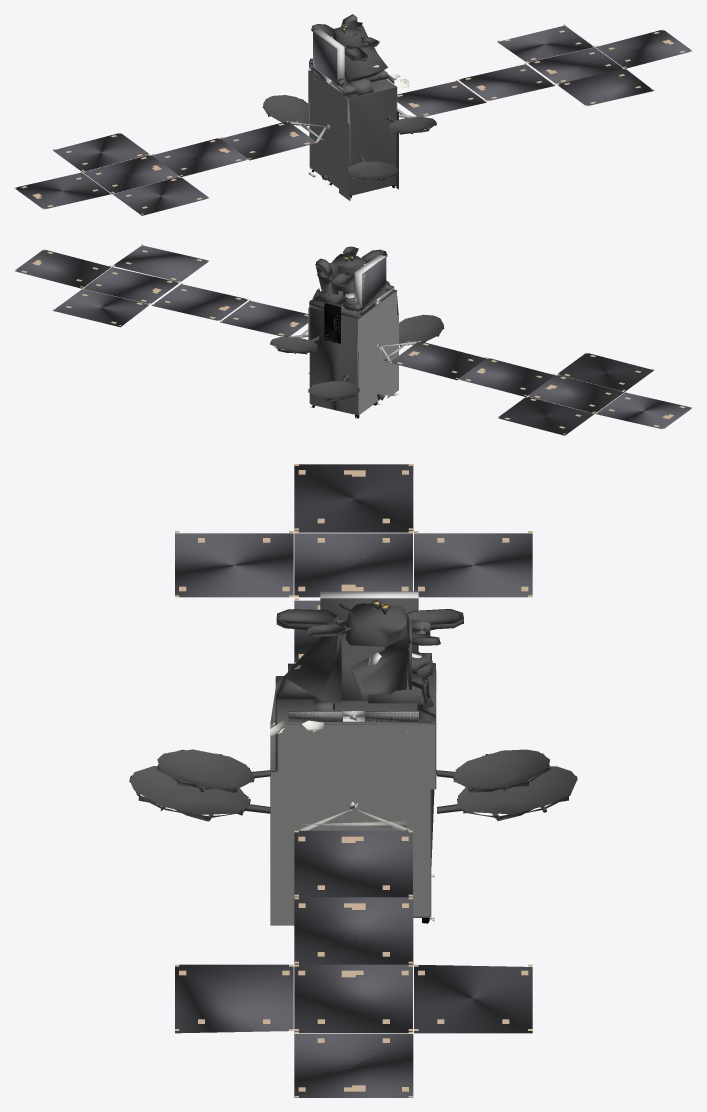
File: ssl1300.glb
3 views of the same model, one above another, from view 1: azimuth 30°, elevation 25°; view 2: azimuth 150°, elevation 25°; view 3: azimuth 270°, elevation 25° (orthographic). The views are drawn at different scales.
Parts seen in each view (by area): view 1: Empty_Mesh; view 2: Empty_Mesh; view 3: Empty_Mesh.
Boxes of the visible parts, bbox=[...] form: Empty_Mesh: bbox=[14, 14, 692, 215]; Empty_Mesh: bbox=[14, 244, 692, 435]; Empty_Mesh: bbox=[129, 464, 577, 1097].
Bounding box in the file's own units: 268 × 60.73 × 80.26.
1 material, 1 textured.
